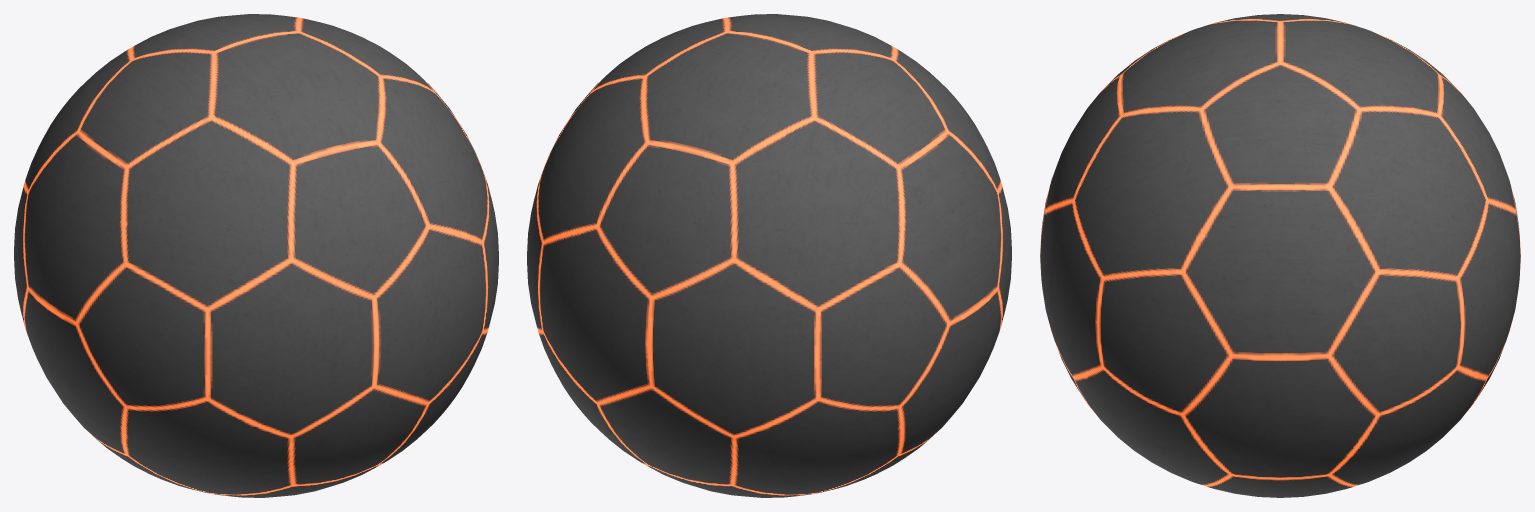
3 views of the same model, side by side, from view 1: azimuth 30°, elevation 25°; view 2: azimuth 150°, elevation 25°; view 3: azimuth 270°, elevation 25° (orthographic).
Parts seen in each view (by area): view 1: Sci-Fi Football; view 2: Sci-Fi Football; view 3: Sci-Fi Football.
Boxes of the visible parts, x1=… form: Sci-Fi Football: x1=14, y1=14, x2=498, y2=497; Sci-Fi Football: x1=527, y1=14, x2=1011, y2=497; Sci-Fi Football: x1=1040, y1=14, x2=1520, y2=497.
Bounding box in the file's own units: 0.2512 × 0.2512 × 0.2512.
Materials: 1 (1 with a texture image).
